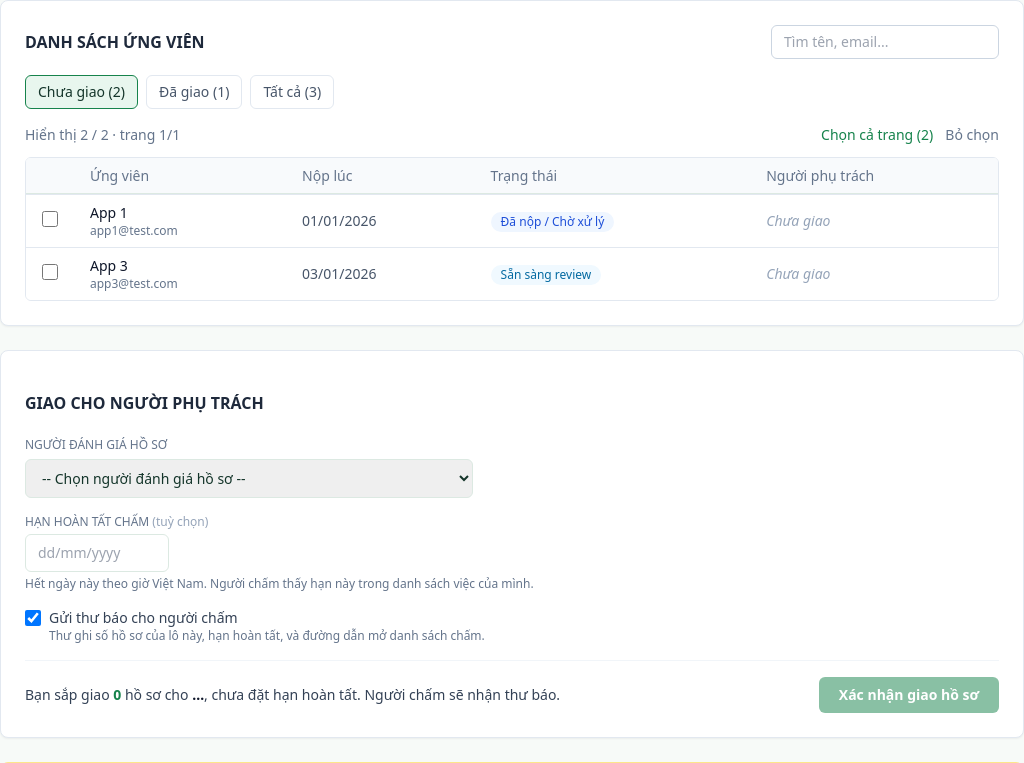
Test: Manual Bulk Assignment UX (AssignBulkForm) › SELECTION_SURVIVES_SEARCH_FILTER: filtering the list does not silently drop selected ids
# The default tab lists exactly the unassigned pair, app1 and app3.
Click the checkbox named "Chọn App 1". click: click(50, 218)
box: [42,210,58,226]
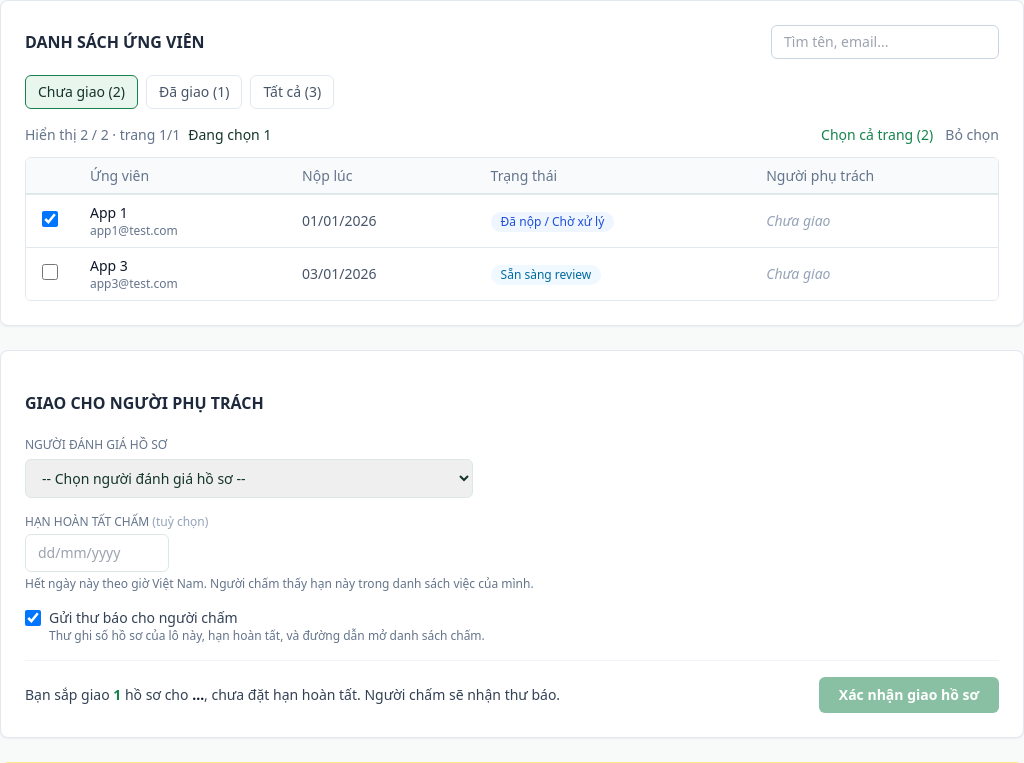
Click the checkbox named "Chọn App 3". click: click(50, 272)
box: [42,264,58,280]
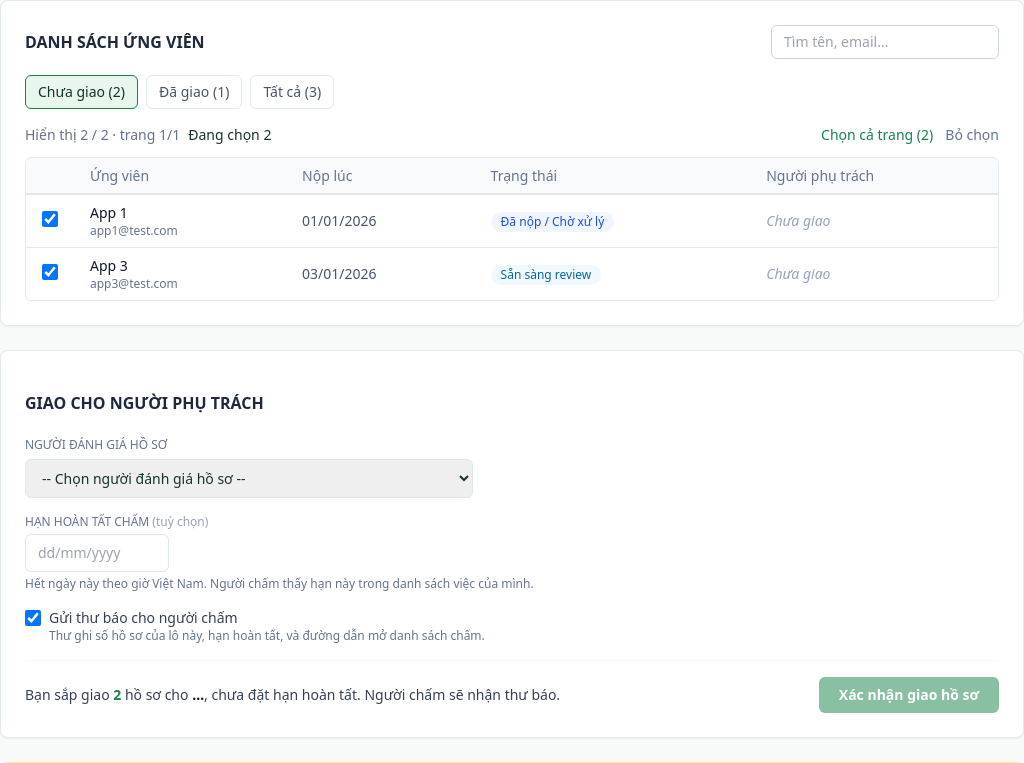
Type "App 1" into the field with placeholder "Tìm tên, email...". click: (885, 42)
box: [771,25,999,59]
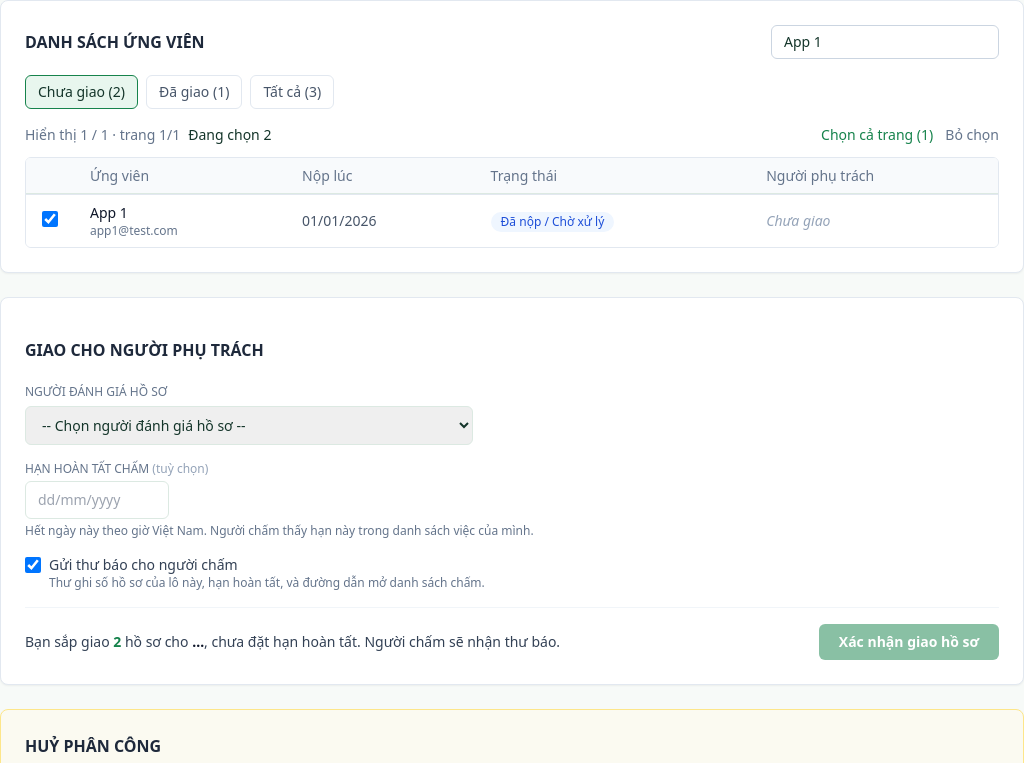
Expected: the text "Bạn sắp giao" shows "2", [113,632,121,651]
Expected: the text "App 3" is gone
